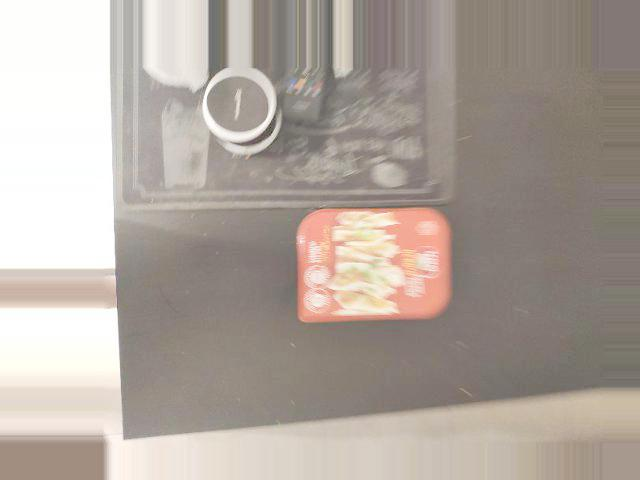cheese: (293, 202, 452, 325)
